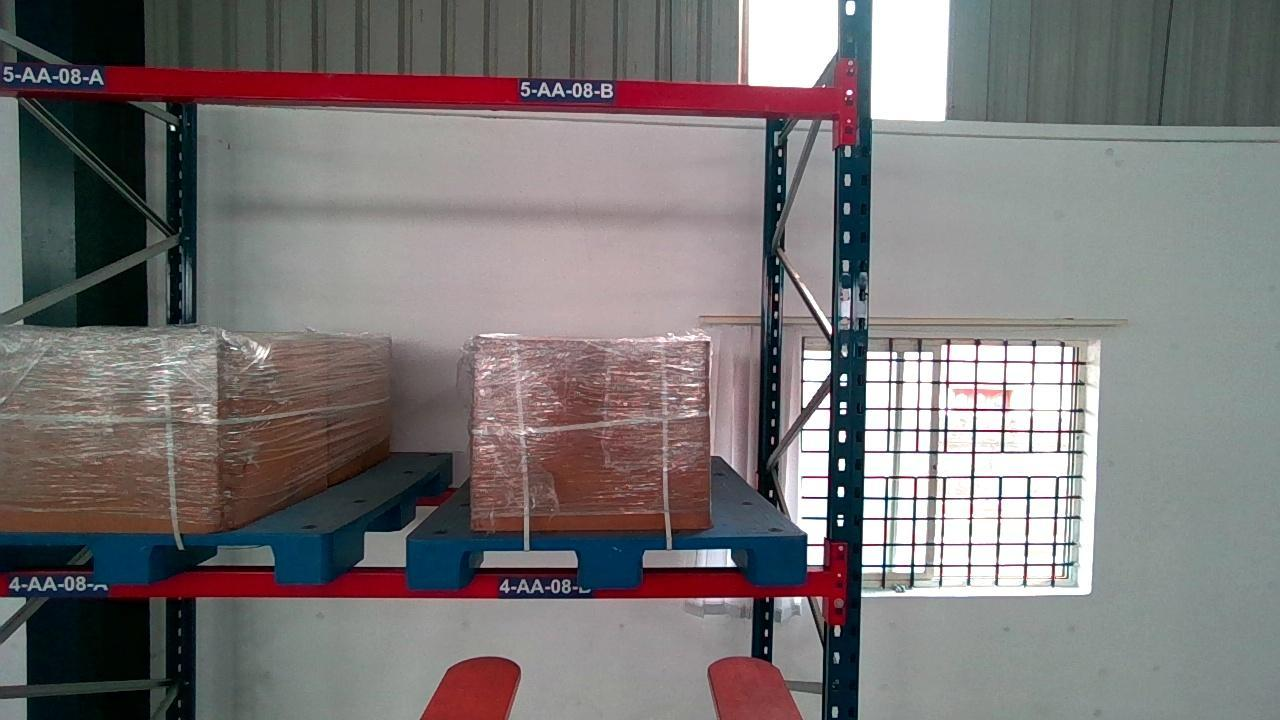h_rack: (1, 59, 839, 115), (0, 568, 840, 596)
small_pallet: (409, 533, 804, 588), (5, 537, 332, 586)
